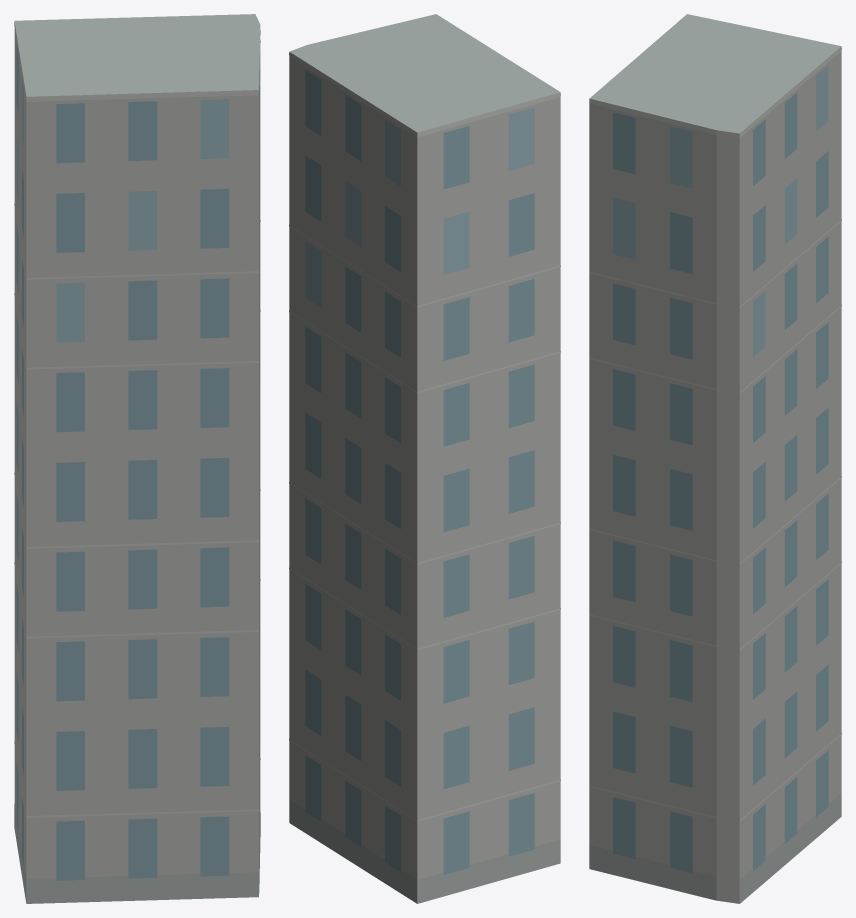
Rendered from survey-upis-32685256.glb.
3 renders of one model, left to right at view 1: azimuth 30°, elevation 25°; view 2: azimuth 150°, elevation 25°; view 3: azimuth 270°, elevation 25°, orthographic. The views are drawn at different scales.
Parts seen in each view (by area): view 1: survey-upis-32685256.tmp; view 2: survey-upis-32685256.tmp; view 3: survey-upis-32685256.tmp.
Part boxes in pixels (x1,y1,x2,y2): survey-upis-32685256.tmp: (14,14,260,903); survey-upis-32685256.tmp: (289,14,560,903); survey-upis-32685256.tmp: (589,14,841,903).
Bounding box in the file's own units: 12.68 × 38.07 × 11.32.
